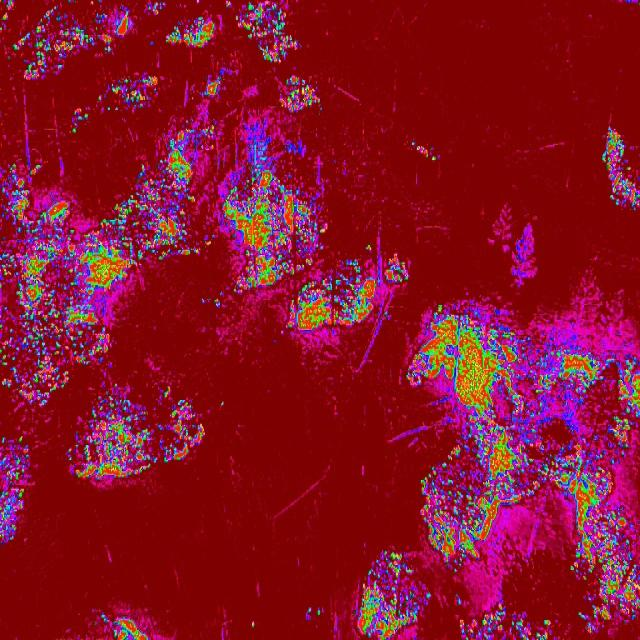fire: (406, 301, 640, 575), (218, 151, 408, 334), (0, 156, 67, 408), (68, 386, 216, 480), (0, 0, 139, 80), (66, 215, 119, 363), (120, 192, 198, 276), (354, 549, 407, 640), (235, 0, 300, 62), (579, 574, 640, 636), (136, 130, 197, 192), (600, 125, 640, 210), (0, 434, 29, 544), (456, 615, 554, 640), (101, 73, 158, 113), (280, 70, 322, 116), (98, 609, 155, 640), (164, 18, 214, 48), (407, 138, 441, 164), (408, 590, 432, 624), (198, 76, 225, 100), (66, 108, 88, 136), (488, 600, 509, 615), (303, 604, 322, 620), (146, 0, 163, 15), (201, 124, 217, 138), (183, 114, 196, 128), (221, 0, 234, 11), (202, 237, 215, 248), (454, 594, 463, 608), (212, 296, 220, 309), (95, 93, 102, 102), (250, 621, 258, 628), (218, 401, 226, 408), (114, 205, 118, 213), (200, 300, 207, 304)
